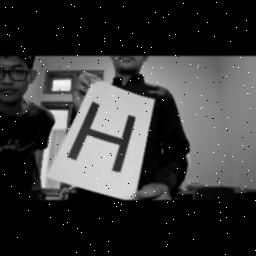h: (66, 100, 140, 178)
